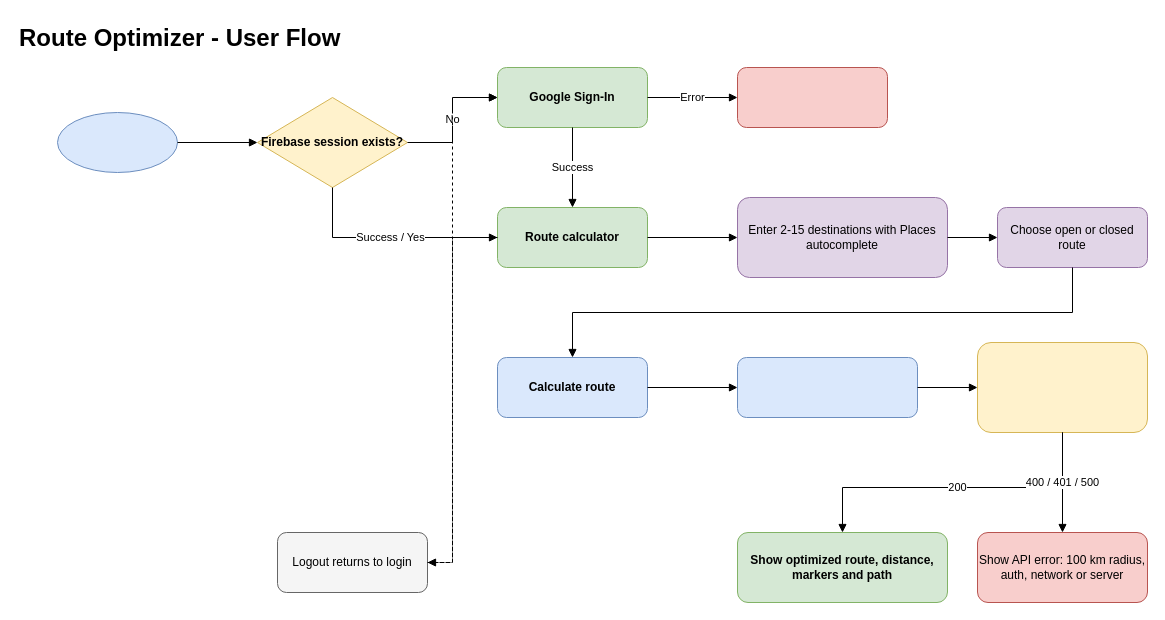
This 1165x620 diagram has some shape labels left out. Each missing label, with the centre of its shape:
Attach Firebase ID token: the point at 827,387
Cloud Function validates token, payload and distance radius: the point at 1062,387
Open app: the point at 117,142
Show auth error: the point at 812,97
